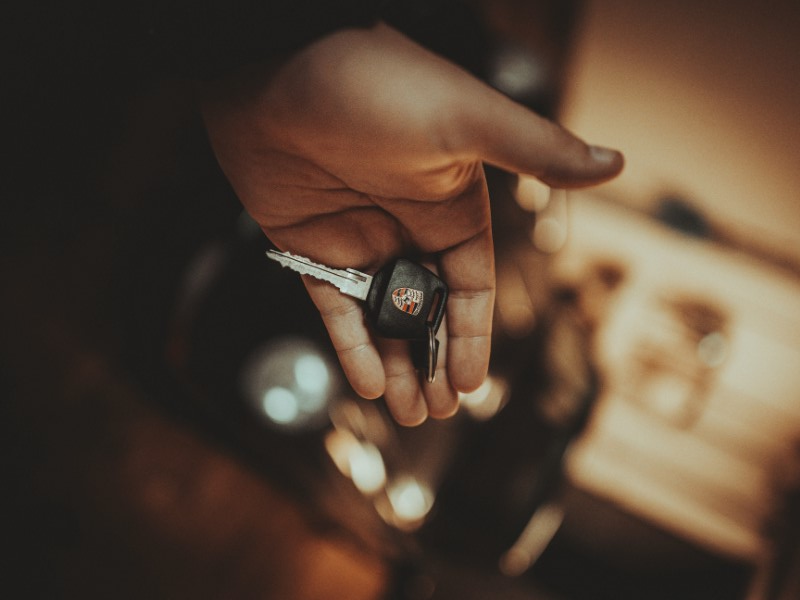carkey: (261, 238, 453, 357)
